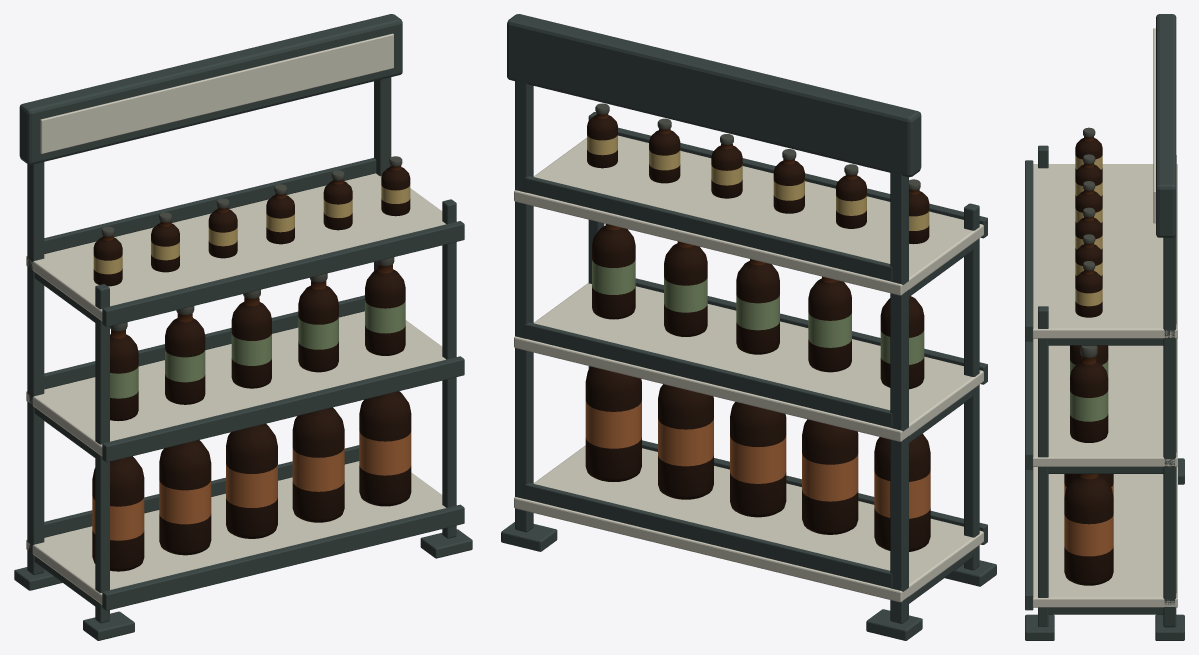
3 views of the same model, side by side, from view 1: azimuth 30°, elevation 25°; view 2: azimuth 150°, elevation 25°; view 3: azimuth 270°, elevation 25° (orthographic). The views are drawn at different scales.
Parts seen in each view (by area): view 1: DISPLAY_ThreeMaterialBatch; view 2: DISPLAY_ThreeMaterialBatch; view 3: DISPLAY_ThreeMaterialBatch.
Part boxes in pixels (left/top/right/bottom): DISPLAY_ThreeMaterialBatch: left=14, top=14, right=472, bottom=640; DISPLAY_ThreeMaterialBatch: left=501, top=14, right=996, bottom=640; DISPLAY_ThreeMaterialBatch: left=1025, top=14, right=1184, bottom=640.
Bounding box in the file's own units: 0.9 × 1.1 × 0.35.
